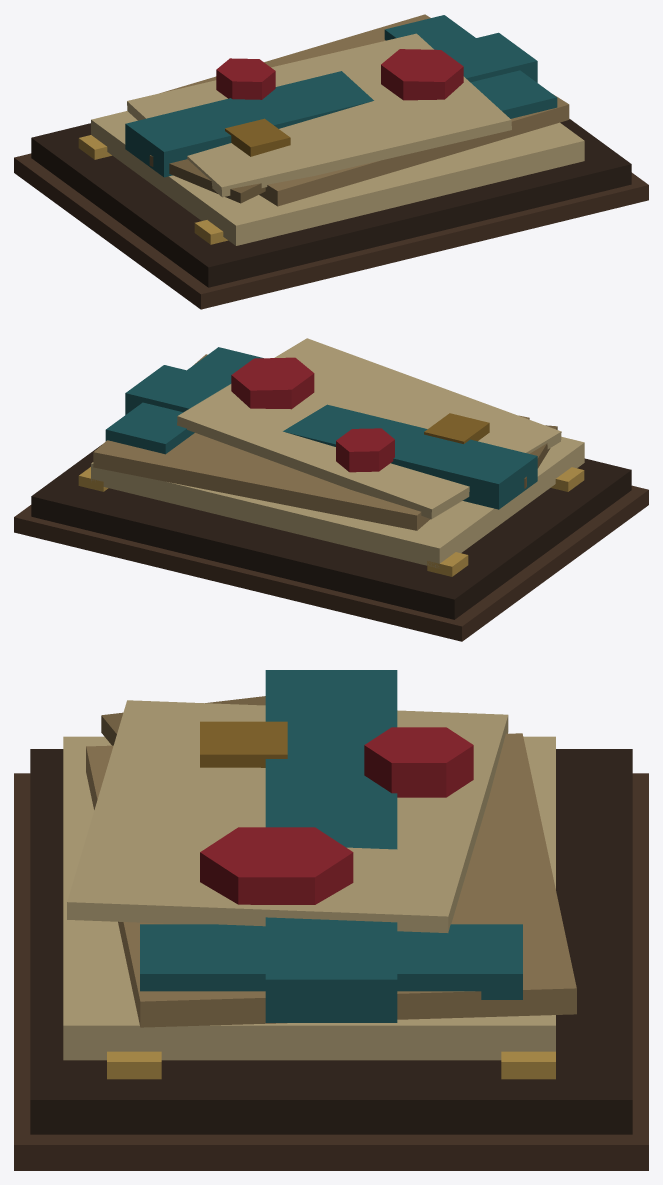
Rendered from fenbridge_muster_order.glb.
3 views of the same model, one above another, from view 1: azimuth 30°, elevation 25°; view 2: azimuth 150°, elevation 25°; view 3: azimuth 270°, elevation 25° (orthographic). The views are drawn at different scales.
Parts seen in each view (by area): view 1: FenbridgeMusterOrder_FenbridgeOpaque; view 2: FenbridgeMusterOrder_FenbridgeOpaque; view 3: FenbridgeMusterOrder_FenbridgeOpaque.
Part boxes in pixels (x1,y1,x2,y2): FenbridgeMusterOrder_FenbridgeOpaque: (14, 14, 648, 309); FenbridgeMusterOrder_FenbridgeOpaque: (14, 338, 648, 641); FenbridgeMusterOrder_FenbridgeOpaque: (14, 670, 648, 1170).
Bounding box in the file's own units: 0.9 × 0.22 × 0.65.
